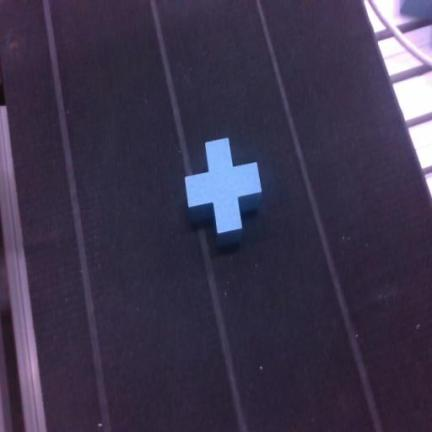cross: (185, 139, 261, 245)
